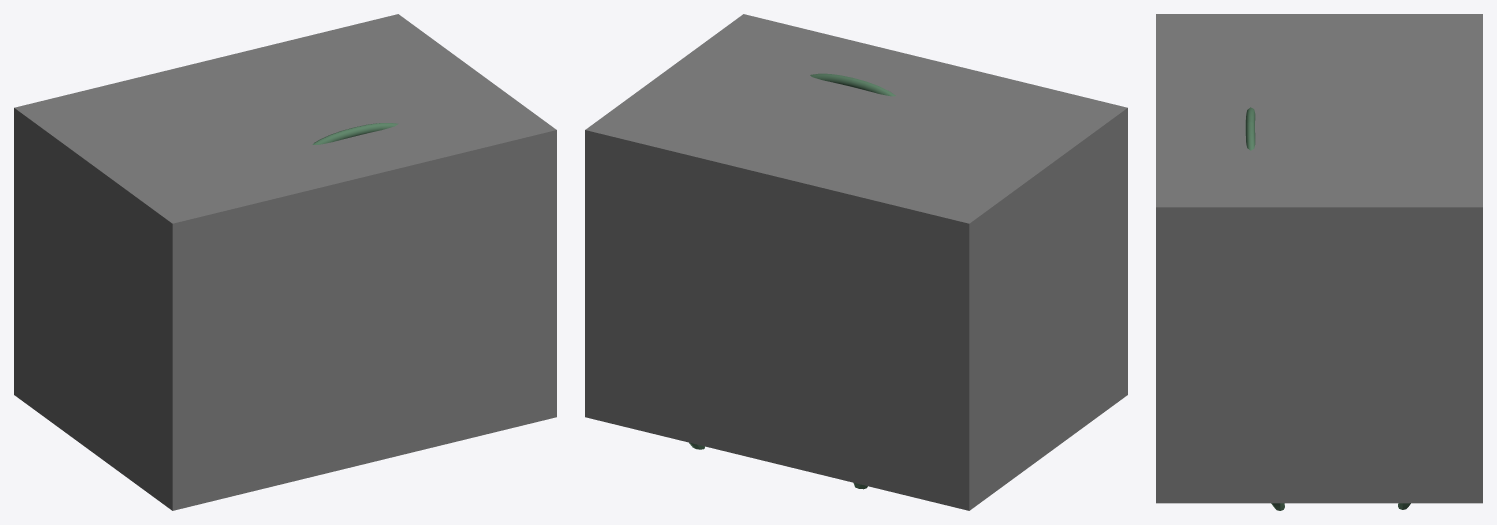
File: BgMD_chair (5).fbx
3 renders of one model, left to right at view 1: azimuth 30°, elevation 25°; view 2: azimuth 150°, elevation 25°; view 3: azimuth 270°, elevation 25°, orthographic. The views are drawn at different scales.
Parts seen in each view (by area): view 1: Cube, Bg_chair; view 2: Cube, Bg_chair; view 3: Cube, Bg_chair.
Part boxes in pixels (x1,y1,x2,y2): Cube: [14, 14, 556, 510]; Bg_chair: [312, 123, 398, 144]; Cube: [585, 14, 1127, 510]; Bg_chair: [689, 73, 895, 489]; Cube: [1156, 14, 1482, 503]; Bg_chair: [1245, 107, 1410, 510].
Bounding box in the file's own units: 70 × 58.25 × 50.
Materials: 2 (1 with a texture image).
